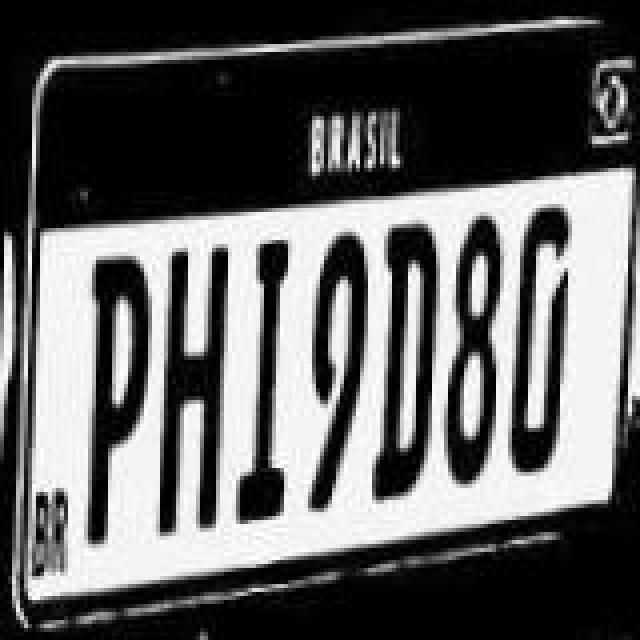8: (436, 204, 516, 492)
9: (290, 226, 378, 518)
D: (360, 210, 444, 506), (504, 194, 584, 474)
H: (152, 236, 236, 536)
I: (222, 236, 310, 528)
P: (78, 248, 158, 548)
